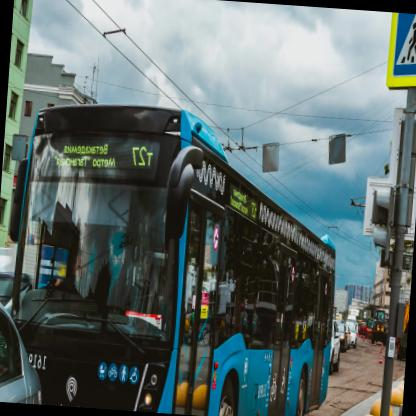bus: (346, 24, 415, 111)
